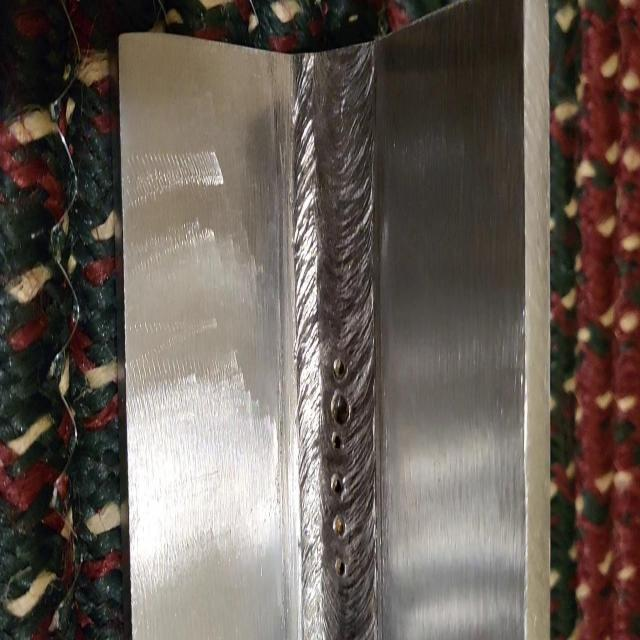Welding Line: (295, 62, 378, 640)
Workpiece: (122, 40, 540, 635)
porosity: (330, 352, 351, 504)
